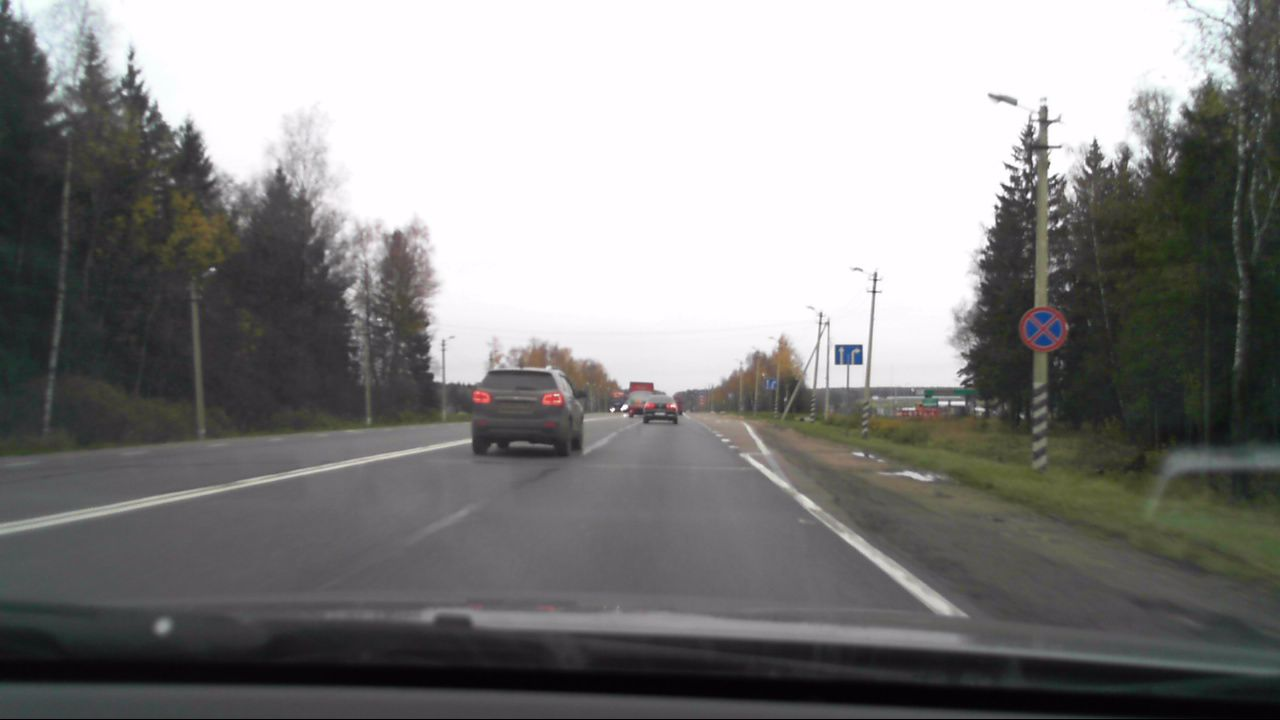No Parking: (1017, 305, 1067, 354)
